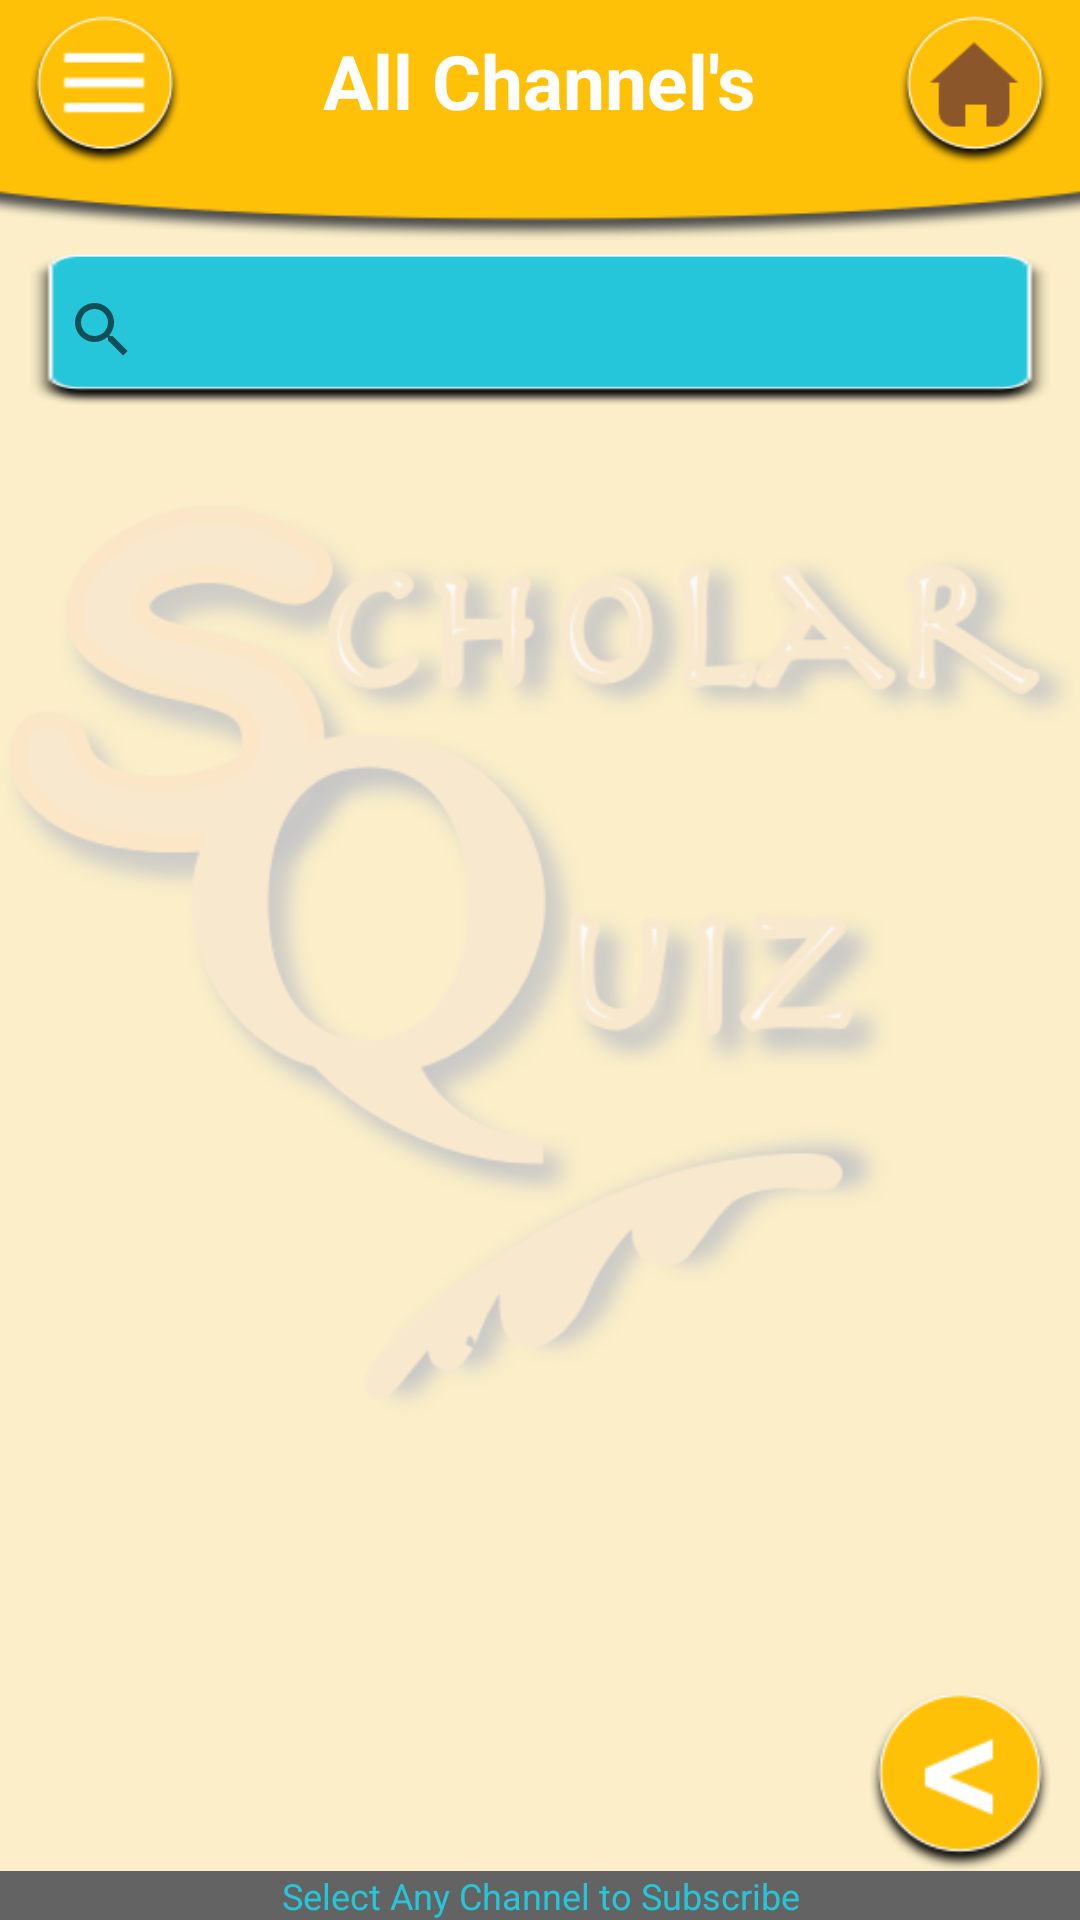

Icon click points for this 1080w x 1920h phone screenshot, format point (x, y):
backbutton: point (960, 1781)
home brown: point (975, 89)
menubutton: point (105, 89)
